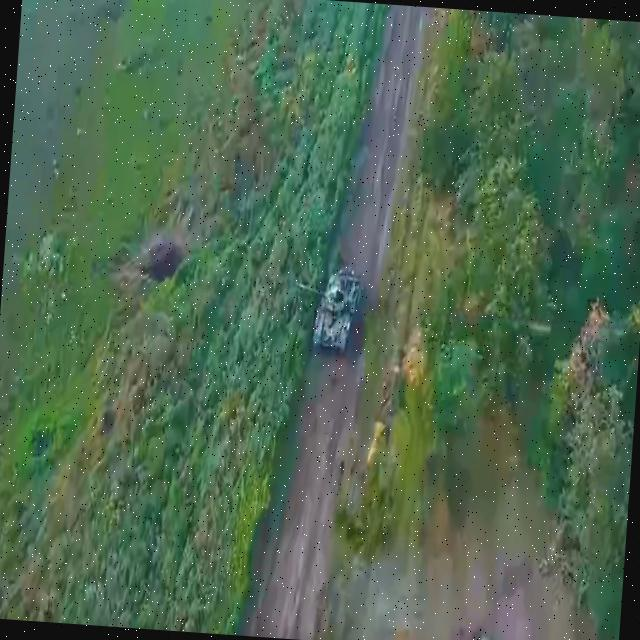MBT: (287, 259, 367, 372)
